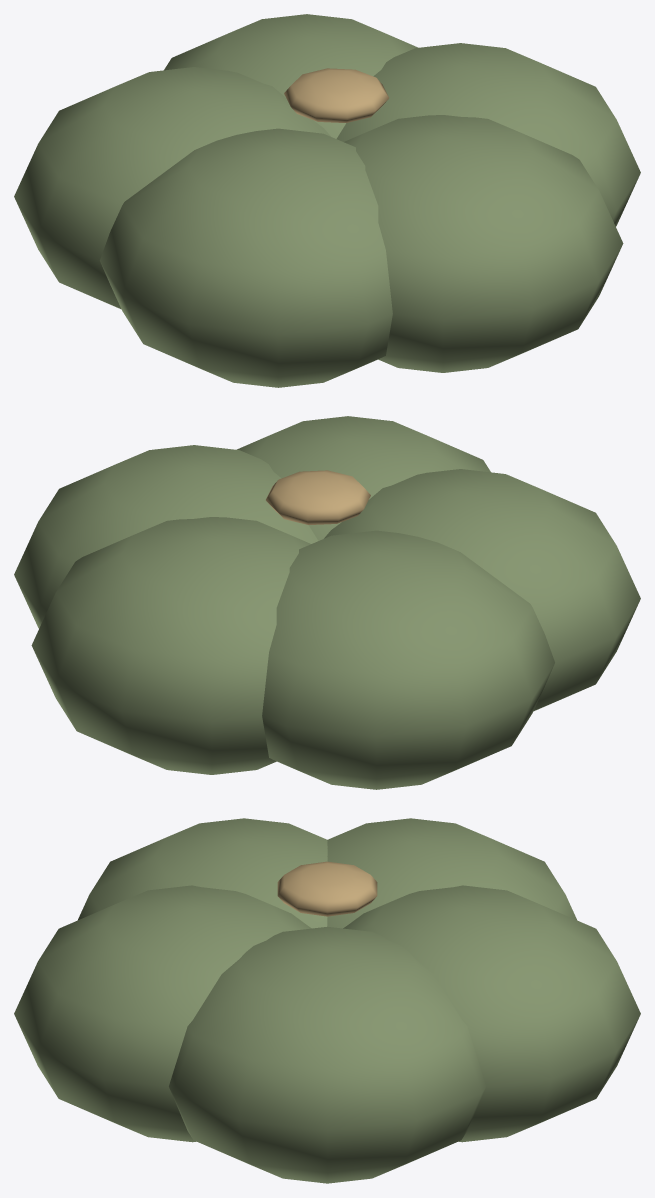
File: bedroom_ref_flower_pouf.glb
The picture shows the model from 3 angles, top to bottom: view 1: azimuth 30°, elevation 25°; view 2: azimuth 150°, elevation 25°; view 3: azimuth 270°, elevation 25°; orthographic projection.
Bounding box in the file's own units: 1.17 × 0.478 × 1.19.
